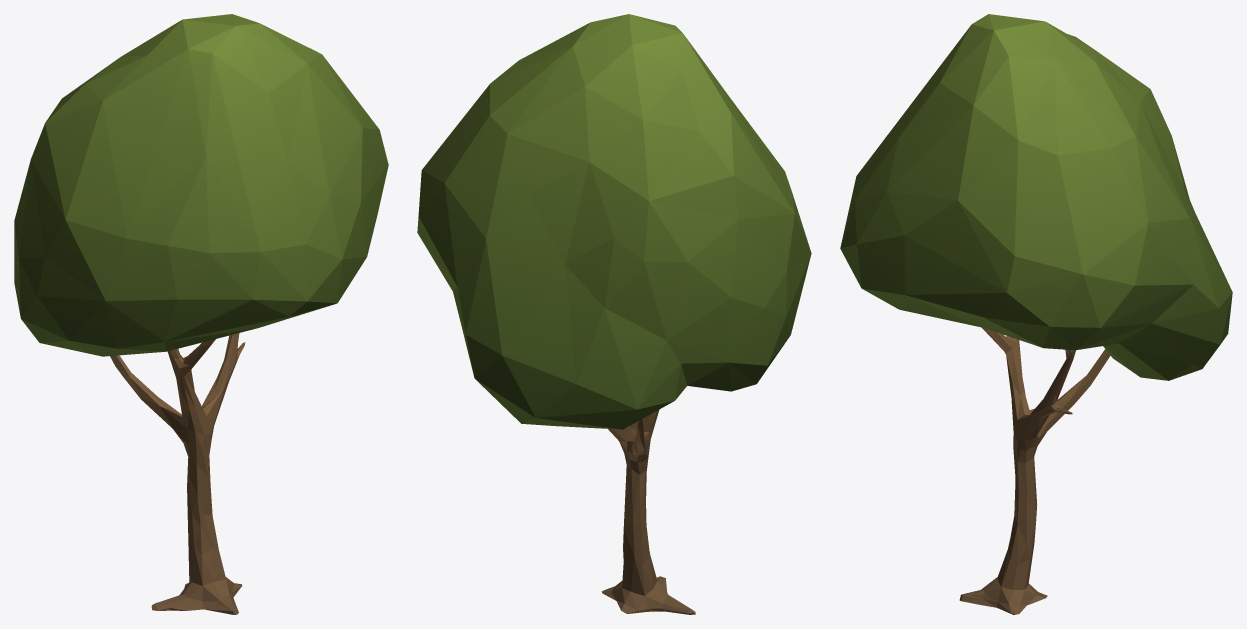
The model's file is Summer_Tree_13.glb.
3 renders of one model, left to right at view 1: azimuth 30°, elevation 25°; view 2: azimuth 150°, elevation 25°; view 3: azimuth 270°, elevation 25°, orthographic.
Visible parts, largest first — view 1: Summer_Tree_13_LOD0; view 2: Summer_Tree_13_LOD0; view 3: Summer_Tree_13_LOD0.
Boxes of the visible parts, x1,y1,x2,y2 form: Summer_Tree_13_LOD0: [14, 14, 388, 614]; Summer_Tree_13_LOD0: [417, 14, 811, 614]; Summer_Tree_13_LOD0: [840, 14, 1232, 614].
Size of what is drawn, in the model's own units: 4.52 by 7.22 by 4.42.
Materials: 1 (1 with a texture image).
